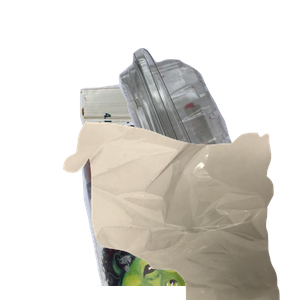cardboard: (77, 79, 251, 227)
glass: (78, 120, 281, 300)
plastic: (71, 45, 300, 225)
trash: (61, 120, 300, 300)
